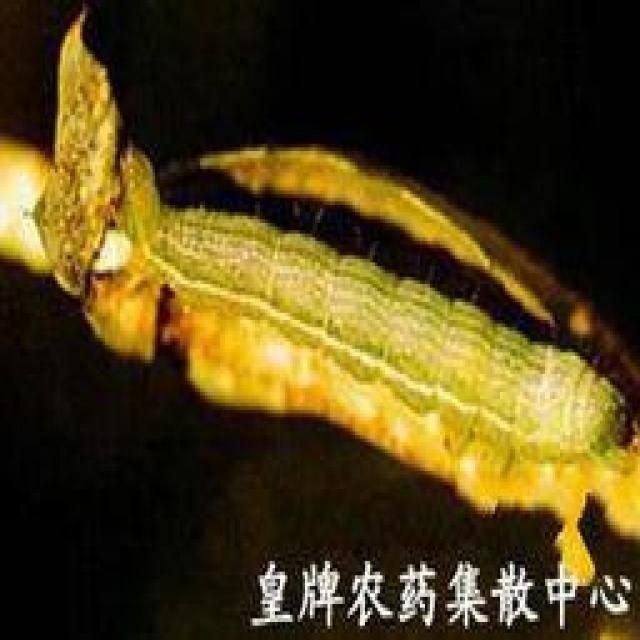BeetArmyWorm-Larva-: (107, 139, 635, 479)
